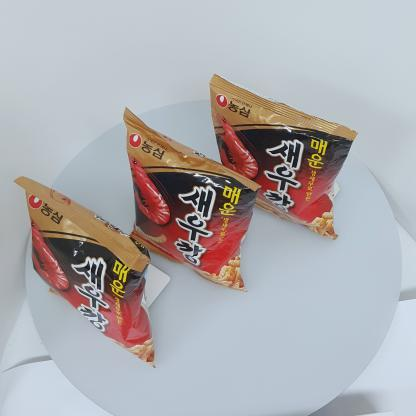Plastic Packaging: (12, 180, 150, 374), (124, 100, 250, 292)
